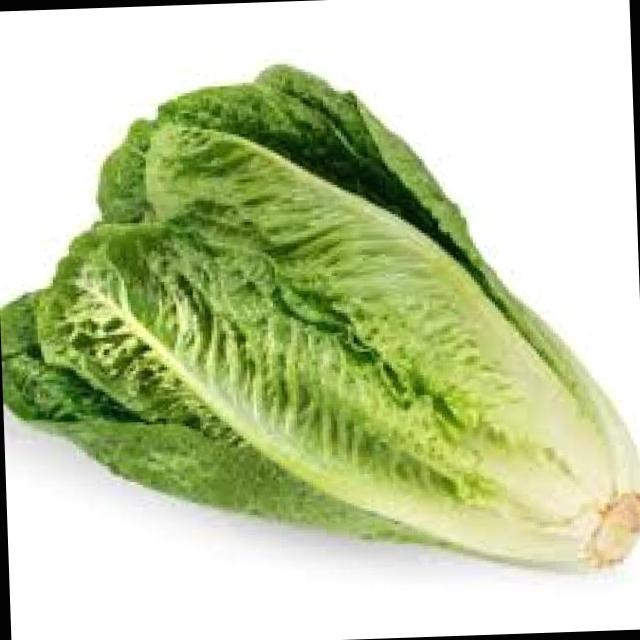Lettuce-Ready-to-Harvest: (0, 64, 640, 574)
